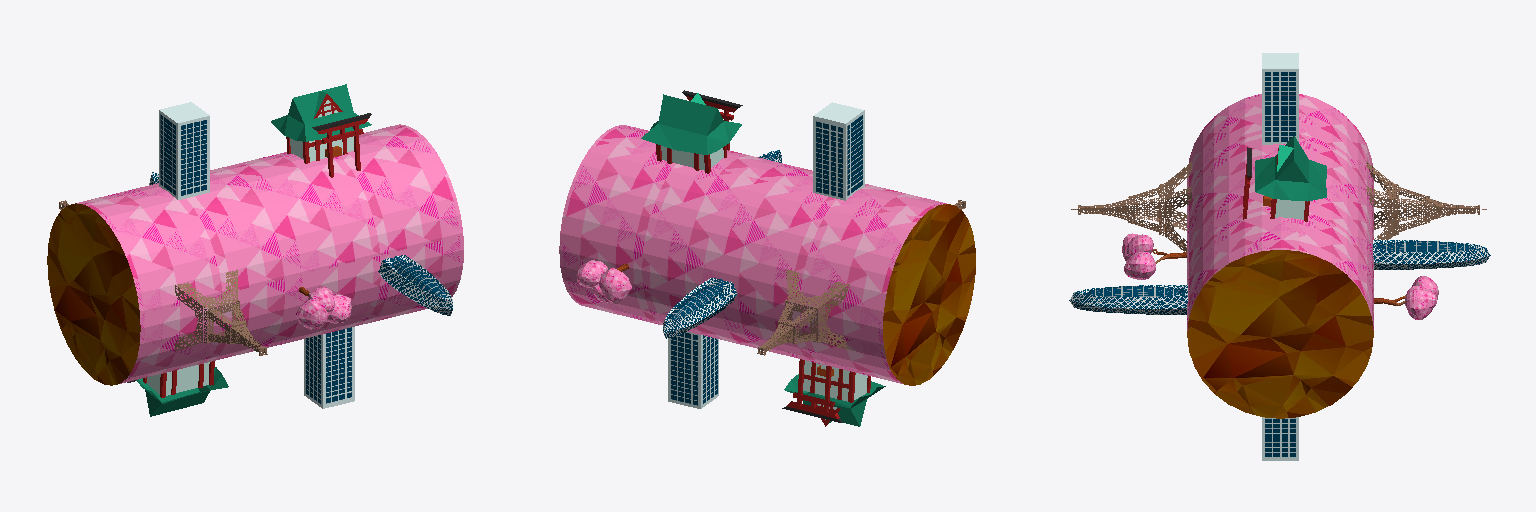
3 views of the same model, side by side, from view 1: azimuth 30°, elevation 25°; view 2: azimuth 150°, elevation 25°; view 3: azimuth 270°, elevation 25° (orthographic).
Visible parts, largest first — view 1: model_map_spring:pCylinder1, group5 model_mapobj_biru:pCube2, group5 model_mapobj_biru1:pCube2, model_mapobj_tera:group12 model_mapobj_tera:pCube1 model_mapobj_, model_mapobj_hal:group1 model_mapobj_hal:group2 model_mapobj_hal, model_mapobj_tou:group1 model_mapobj_tou:pCube1 model_mapobj_tou, model_mapobj_tera1:group12 model_mapobj_tera1:pCube1 model_mapob, model_mapobj_tera:group12 model_mapobj_tera:group13 model_mapobj, model_mapobj_tera1:group12 model_mapobj_tera1:pCube2 model_mapob, model_wood_spring:group4 model_wood_spring:pasted__pSphere1 mode, model_mapobj_tou:group1 model_mapobj_tou:pCube2 model_mapobj_tou, model_mapobj_tera:group12 model_mapobj_tera:pCube2 model_mapobj_; view 2: model_map_spring:pCylinder1, group5 model_mapobj_biru:pCube2, model_mapobj_tera:group12 model_mapobj_tera:pCube1 model_mapobj_, group5 model_mapobj_biru1:pCube2, model_mapobj_tou1:group1 model_mapobj_tou1:pCube1 group5 model_m, model_mapobj_hal1:group2 group5 model_mapobj_hal1:polySurface1, model_mapobj_tera1:group12 model_mapobj_tera1:group13 model_mapo, model_mapobj_tera1:group12 model_mapobj_tera1:pCube1 model_mapob, model_mapobj_tera1:group12 model_mapobj_tera1:pCube2 model_mapob, model_wood_spring:group4 model_wood_spring:pasted__pSphere1 mode, model_mapobj_hal1:group2 model_mapobj_hal1:pSphere1 group5 model, model_mapobj_tera:group12 model_mapobj_tera:pCube2 model_mapobj_ (+3 smaller); view 3: model_map_spring:pCylinder1, group5 model_mapobj_biru:pCube2, model_mapobj_hal:group1 model_mapobj_hal:group2 model_mapobj_hal, model_mapobj_tera:group12 model_mapobj_tera:pCube1 model_mapobj_, model_mapobj_hal1:group2 group5 model_mapobj_hal1:polySurface1, group5 model_mapobj_biru1:pCube2, model_wood_spring:group4 model_wood_spring:pSphere1 model_wood_s, model_mapobj_tou:group1 model_mapobj_tou:pCube1 model_mapobj_tou, model_mapobj_tou1:group1 model_mapobj_tou1:pCube1 group5 model_m, model_mapobj_hal1:group2 model_mapobj_hal1:pSphere1 group5 model, model_mapobj_tou1:group1 model_mapobj_tou1:pCube2 group5 model_m, model_mapobj_tou:group1 model_mapobj_tou:pCube2 model_mapobj_tou.
Boxes of the visible parts, x1,y1,x2,y2 form: model_map_spring:pCylinder1: [47, 124, 463, 385]; group5 model_mapobj_biru:pCube2: [159, 102, 209, 199]; group5 model_mapobj_biru1:pCube2: [304, 327, 354, 408]; model_mapobj_tera:group12 model_mapobj_tera:pCube1 model_mapobj_: [271, 84, 371, 141]; model_mapobj_hal:group1 model_mapobj_hal:group2 model_mapobj_hal: [378, 255, 452, 315]; model_mapobj_tou:group1 model_mapobj_tou:pCube1 model_mapobj_tou: [175, 270, 239, 350]; model_mapobj_tera1:group12 model_mapobj_tera1:pCube1 model_mapob: [136, 367, 228, 416]; model_mapobj_tera:group12 model_mapobj_tera:group13 model_mapobj: [312, 113, 371, 177]; model_mapobj_tera1:group12 model_mapobj_tera1:pCube2 model_mapob: [147, 362, 209, 395]; model_wood_spring:group4 model_wood_spring:pasted__pSphere1 mode: [296, 299, 328, 329]; model_mapobj_tou:group1 model_mapobj_tou:pCube2 model_mapobj_tou: [208, 304, 246, 343]; model_mapobj_tera:group12 model_mapobj_tera:pCube2 model_mapobj_: [290, 136, 353, 161]; model_map_spring:pCylinder1: [559, 125, 975, 385]; group5 model_mapobj_biru:pCube2: [813, 102, 864, 200]; model_mapobj_tera:group12 model_mapobj_tera:pCube1 model_mapobj_: [641, 94, 741, 154]; group5 model_mapobj_biru1:pCube2: [668, 332, 718, 408]; model_mapobj_tou1:group1 model_mapobj_tou1:pCube1 group5 model_m: [785, 269, 849, 349]; model_mapobj_hal1:group2 group5 model_mapobj_hal1:polySurface1: [663, 278, 736, 338]; model_mapobj_tera1:group12 model_mapobj_tera1:group13 model_mapo: [782, 359, 842, 422]; model_mapobj_tera1:group12 model_mapobj_tera1:pCube1 model_mapob: [784, 374, 885, 426]; model_mapobj_tera1:group12 model_mapobj_tera1:pCube2 model_mapob: [803, 360, 867, 401]; model_wood_spring:group4 model_wood_spring:pasted__pSphere1 mode: [599, 268, 631, 303]; model_mapobj_hal1:group2 model_mapobj_hal1:pSphere1 group5 model: [669, 279, 724, 319]; model_mapobj_tera:group12 model_mapobj_tera:pCube2 model_mapobj_: [661, 146, 723, 170]; model_map_spring:pCylinder1: [1187, 94, 1373, 418]; group5 model_mapobj_biru:pCube2: [1262, 53, 1298, 144]; model_mapobj_hal:group1 model_mapobj_hal:group2 model_mapobj_hal: [1069, 285, 1187, 314]; model_mapobj_tera:group12 model_mapobj_tera:pCube1 model_mapobj_: [1255, 136, 1326, 201]; model_mapobj_hal1:group2 group5 model_mapobj_hal1:polySurface1: [1373, 240, 1490, 269]; group5 model_mapobj_biru1:pCube2: [1262, 417, 1298, 460]; model_wood_spring:group4 model_wood_spring:pSphere1 model_wood_s: [1124, 252, 1436, 316]; model_mapobj_tou:group1 model_mapobj_tou:pCube1 model_mapobj_tou: [1159, 162, 1191, 251]; model_mapobj_tou1:group1 model_mapobj_tou1:pCube1 group5 model_m: [1366, 161, 1398, 239]; model_mapobj_hal1:group2 model_mapobj_hal1:pSphere1 group5 model: [1376, 241, 1473, 252]; model_mapobj_tou1:group1 model_mapobj_tou1:pCube2 group5 model_m: [1399, 187, 1429, 231]; model_mapobj_tou:group1 model_mapobj_tou:pCube2 model_mapobj_tou: [1128, 187, 1158, 231].
Bounding box in the file's own units: 3.18 × 3.02 × 3.59.
Materials: 26 (7 with a texture image).